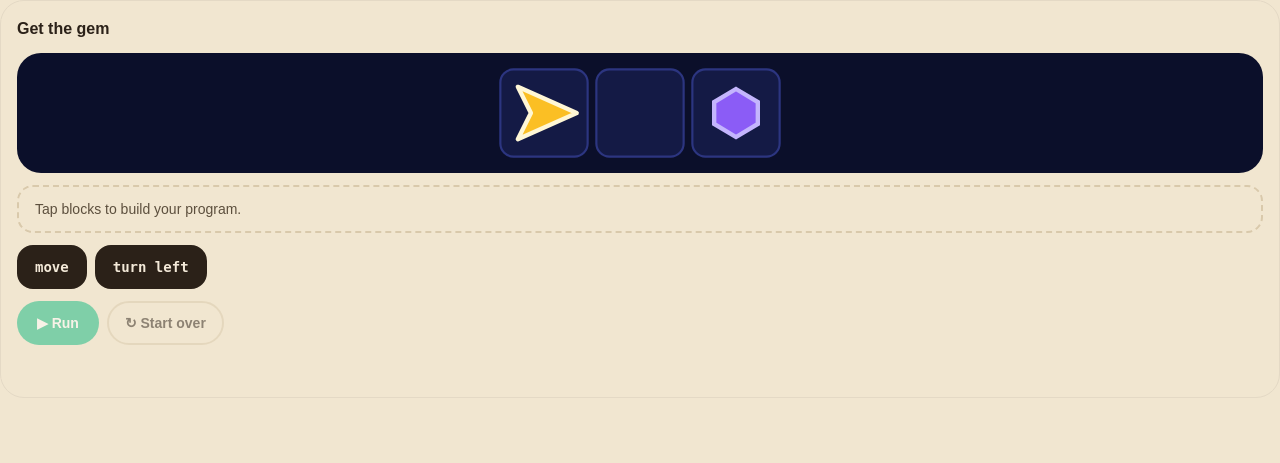
Test: stage step › runs the program and resolves when the goal is met
The width and height of the screenshot is (1280, 463).
Check: the button "▶ Run" is disabled, box [17,301,99,345]
Click the button "move" at (52, 267), box [17,245,87,289]
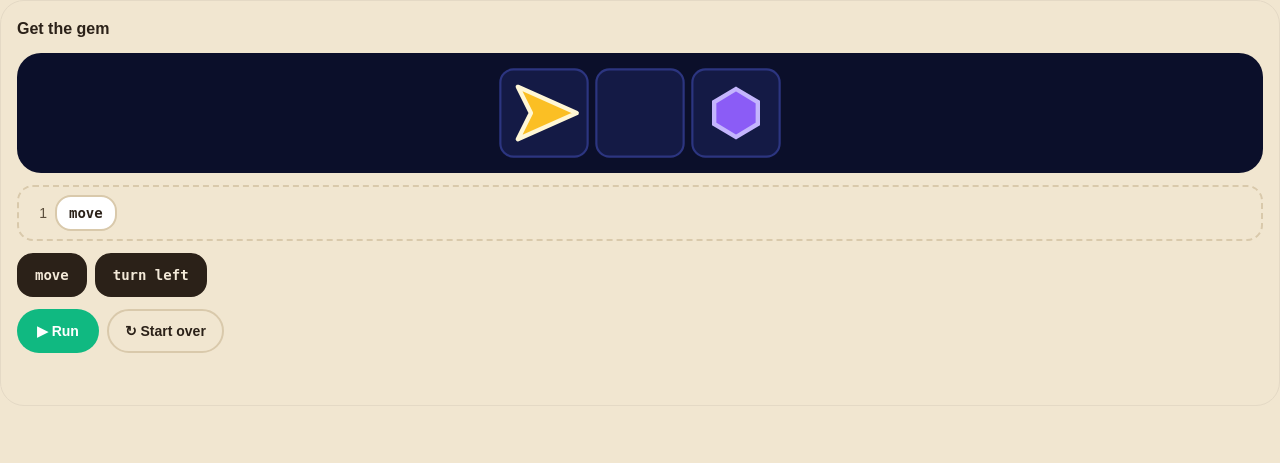
Click the 2nd button "move" at (52, 275), box [17,253,87,297]
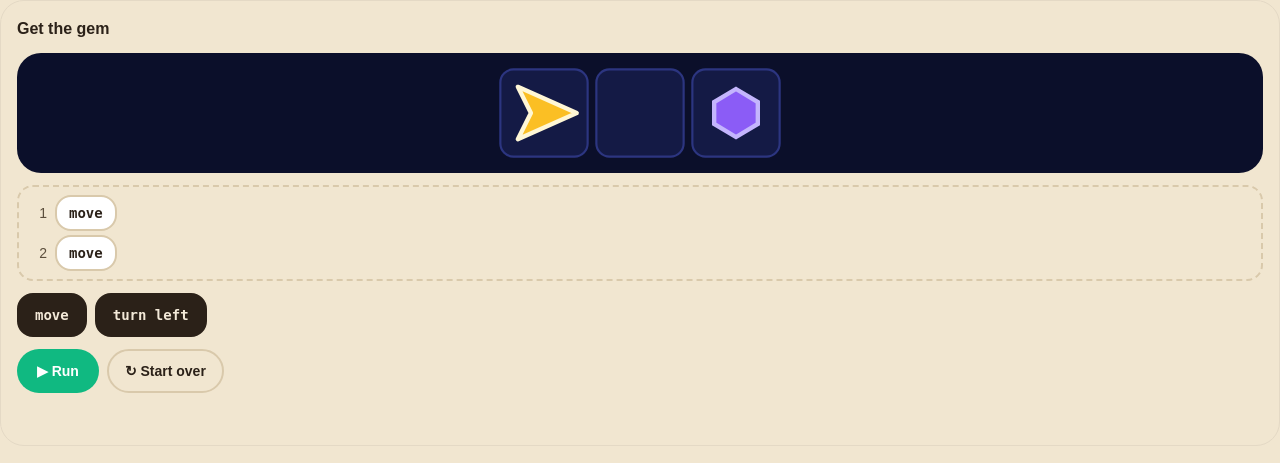
Click the button "▶ Run" at (58, 371), box [17,349,99,393]
Wait 5400 ms
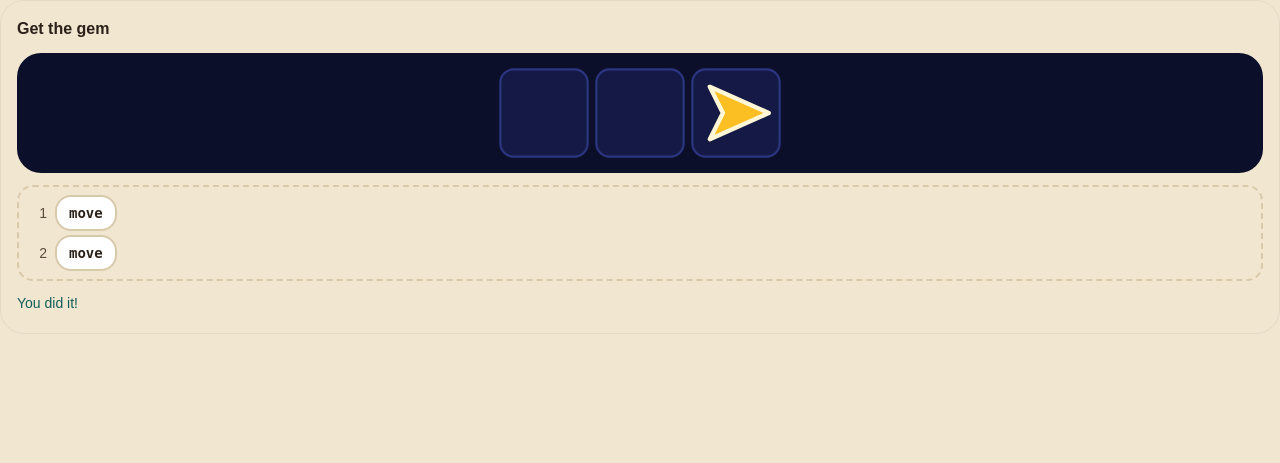
Check: the text "You did it!" is shown, box [17,295,78,311]
